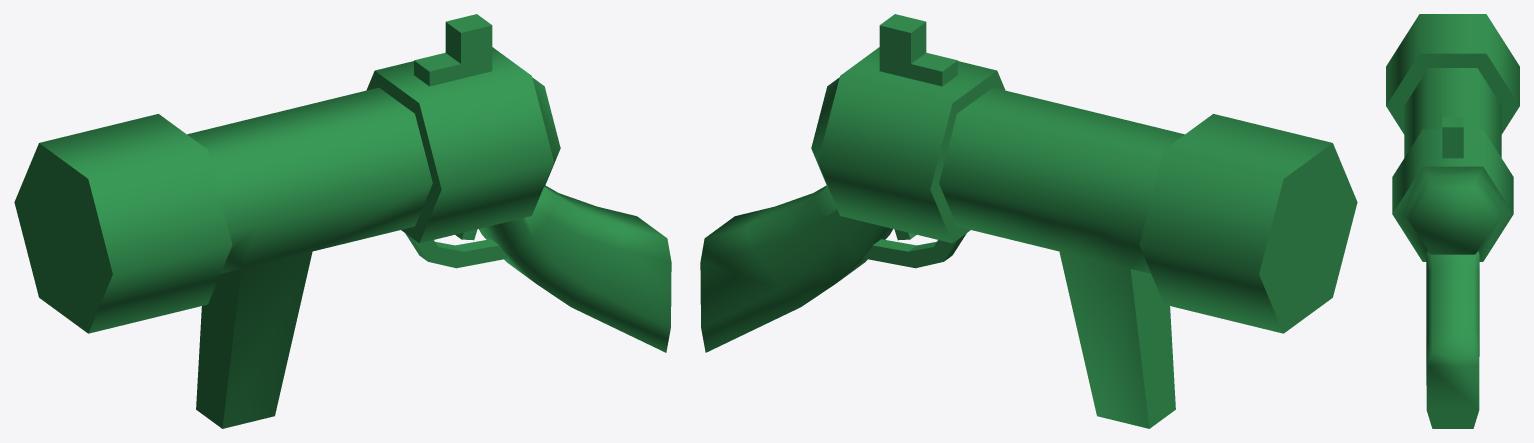
File: bazooka_2.fbx
3 views of the same model, side by side, from view 1: azimuth 30°, elevation 25°; view 2: azimuth 150°, elevation 25°; view 3: azimuth 270°, elevation 25° (orthographic). The views are drawn at different scales.
Visible parts, largest first — view 1: bazooka_2; view 2: bazooka_2; view 3: bazooka_2.
Boxes of the visible parts, box(x1,y1,x2,y2) form: bazooka_2: box(14, 14, 671, 428); bazooka_2: box(700, 14, 1357, 428); bazooka_2: box(1386, 14, 1519, 428).
Bounding box in the file's own units: 2.22 × 0.6429 × 1.31.
1 material, 1 textured.
